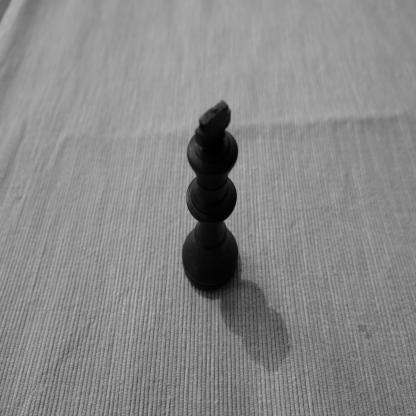black-king: (181, 99, 240, 293)
